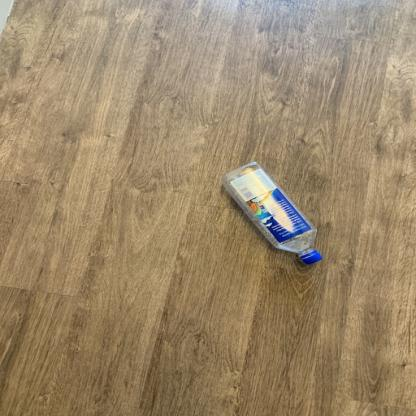trash: (225, 160, 324, 265)
